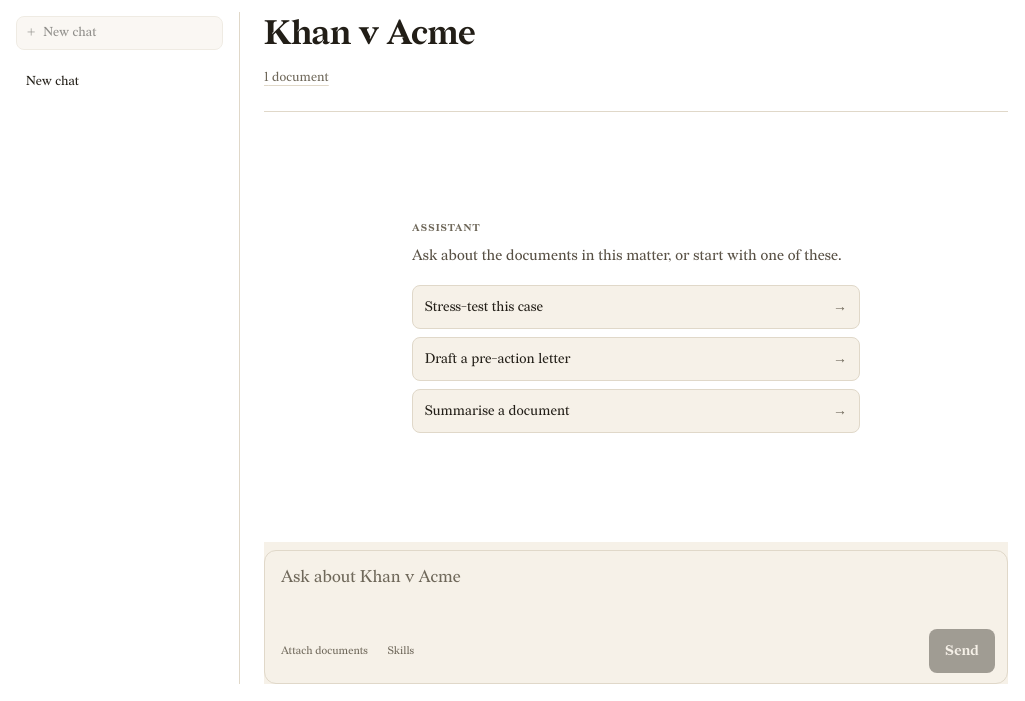
Test: AssistantTab — header document popover › shows just the names when every document is indexed and status is absent
What coordinates should you click on to do the following:
click the button with test id "docs-context-status"
I would click on:
 (296, 77)
Its box is [264,68,329,87].
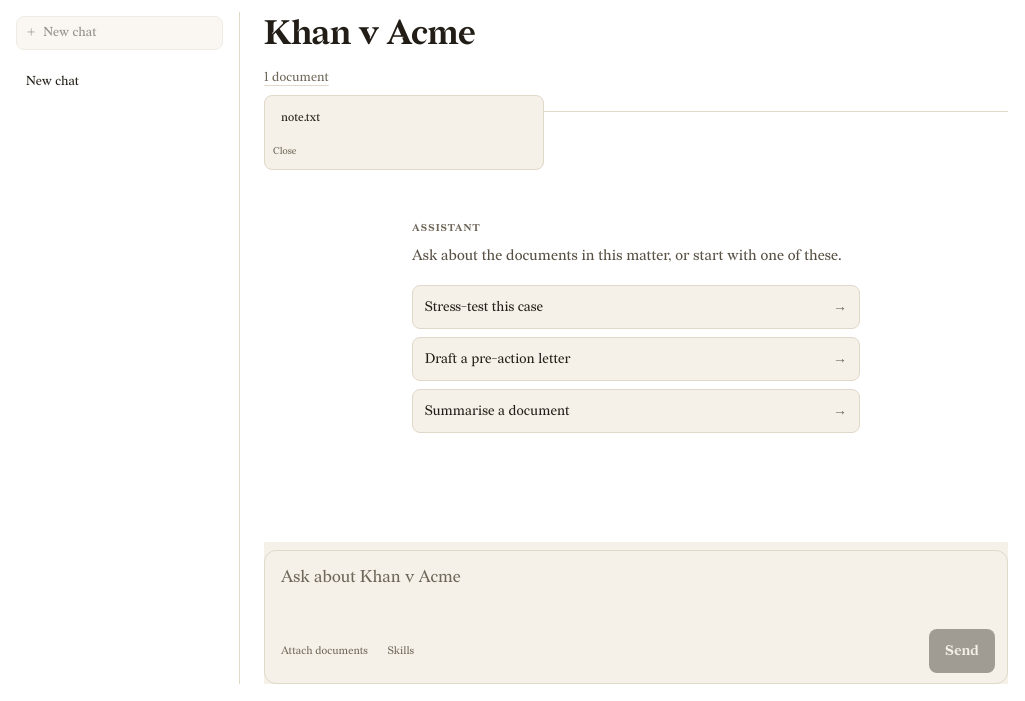
Result: the text "note.txt" is shown at [281,110,320,126]
